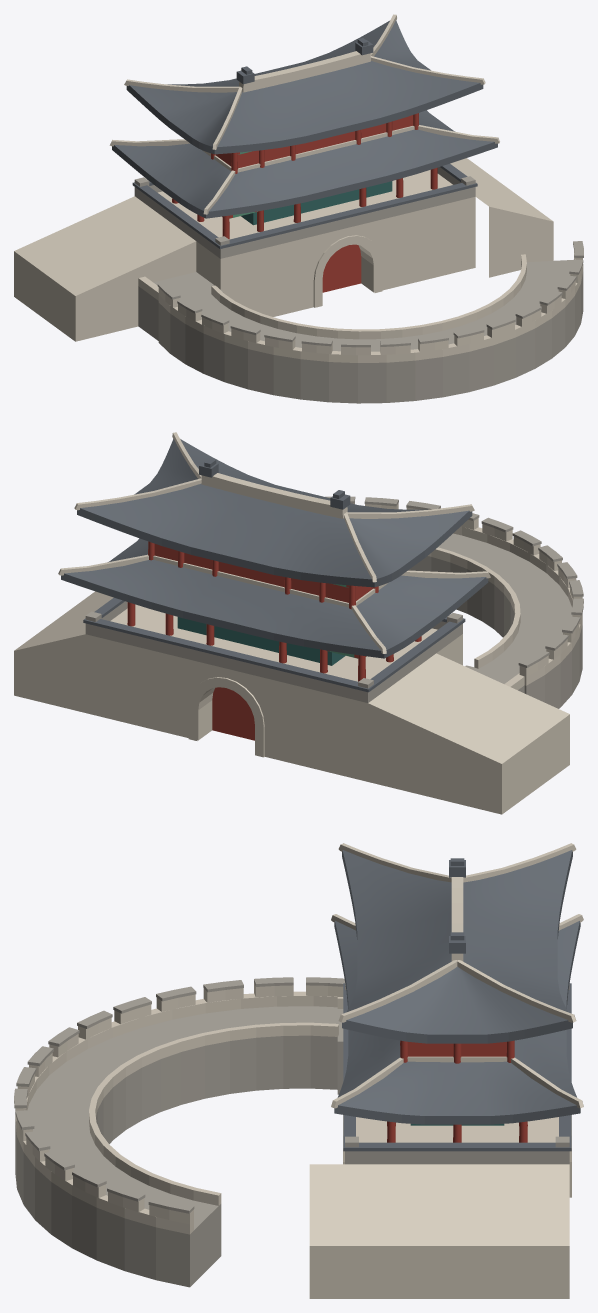
Rendered from seoul-heunginjimun.glb.
The picture shows the model from 3 angles, top to bottom: view 1: azimuth 30°, elevation 25°; view 2: azimuth 150°, elevation 25°; view 3: azimuth 270°, elevation 25°; orthographic projection. The views are drawn at different scales.
Parts seen in each view (by area): view 1: Heunginjimun; view 2: Heunginjimun; view 3: Heunginjimun.
Part boxes in pixels (x1=…): Heunginjimun: x1=14, y1=14, x2=583, y2=403; Heunginjimun: x1=14, y1=432, x2=583, y2=814; Heunginjimun: x1=14, y1=843, x2=583, y2=1298.
Bounding box in the file's own units: 52.5 × 24.25 × 44.92.
